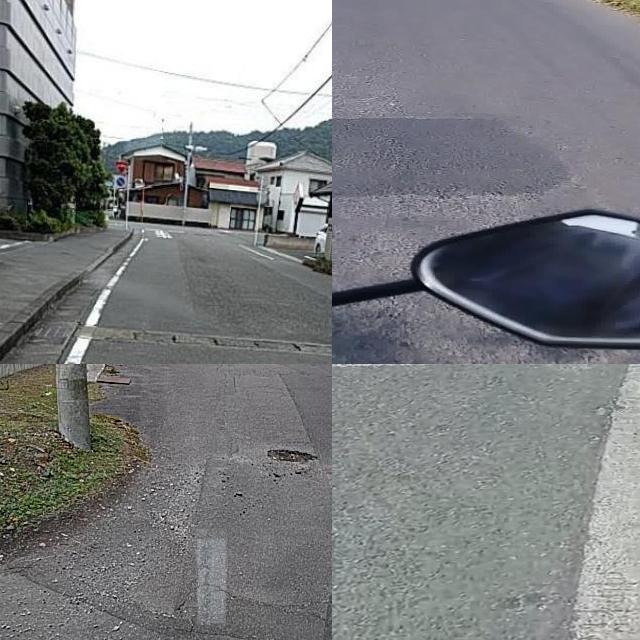Lubang: (271, 445, 324, 468)
Sambungan: (332, 120, 575, 204)
